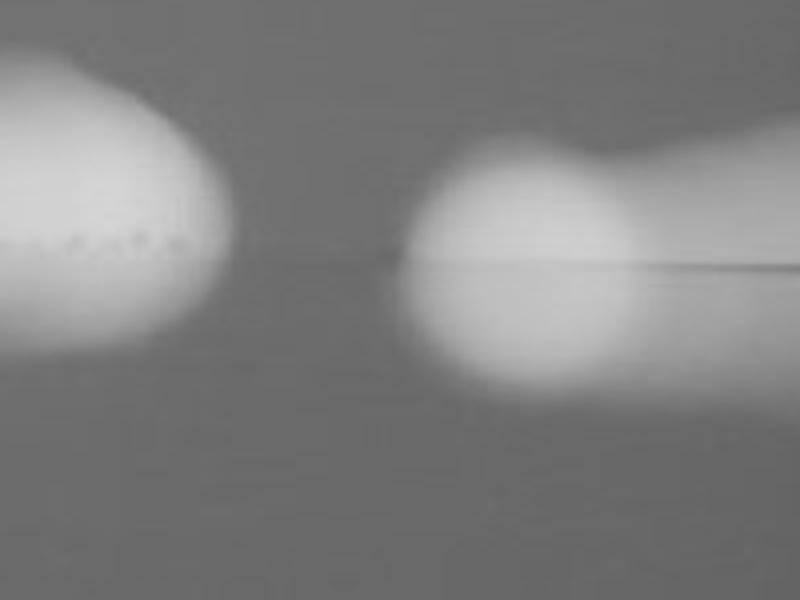defect: (165, 233, 191, 254), (64, 228, 85, 245), (129, 228, 148, 245)
